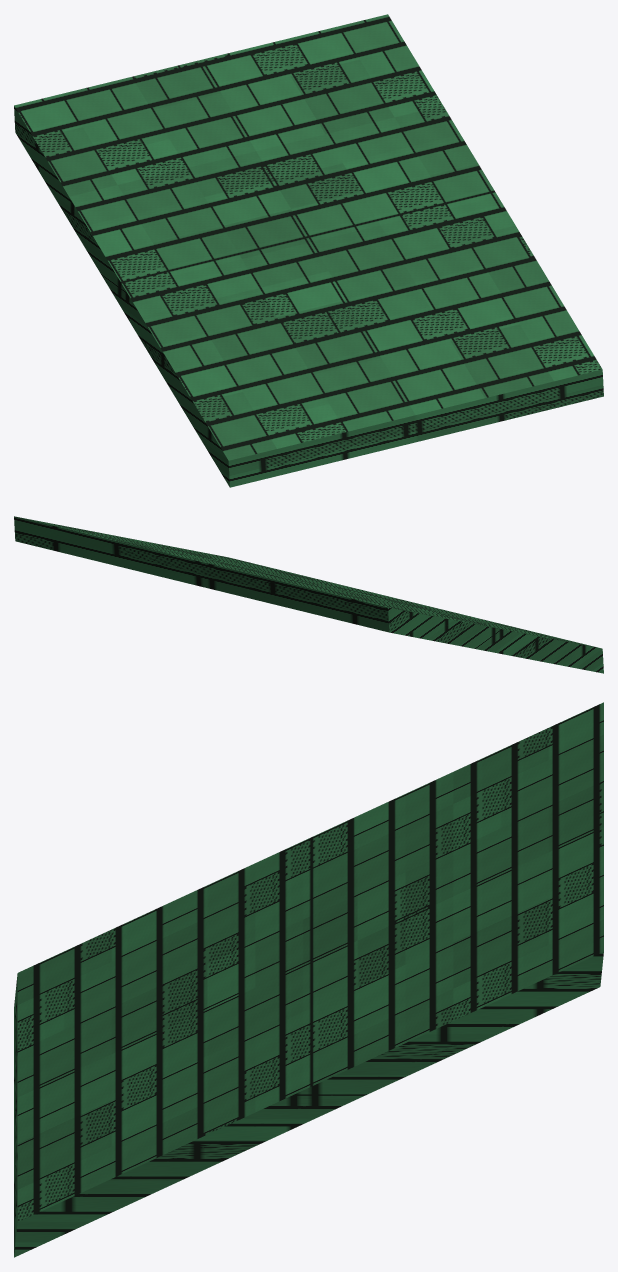
The model's file is theodosian green roof triangle.glb.
The picture shows the model from 3 angles, top to bottom: view 1: azimuth 30°, elevation 25°; view 2: azimuth 150°, elevation 25°; view 3: azimuth 270°, elevation 25°; orthographic projection. The views are drawn at different scales.
Visible parts, largest first — view 1: Theodosian_green_triangle; view 2: Theodosian_green_triangle; view 3: Theodosian_green_triangle.
Part boxes in pixels (<box>): Theodosian_green_triangle: <box>14,14,603,487</box>; Theodosian_green_triangle: <box>14,516,603,673</box>; Theodosian_green_triangle: <box>14,702,603,1257</box>.
Size of the model in its own units: 1 by 0.5726 by 1.
1 material, 1 textured.
